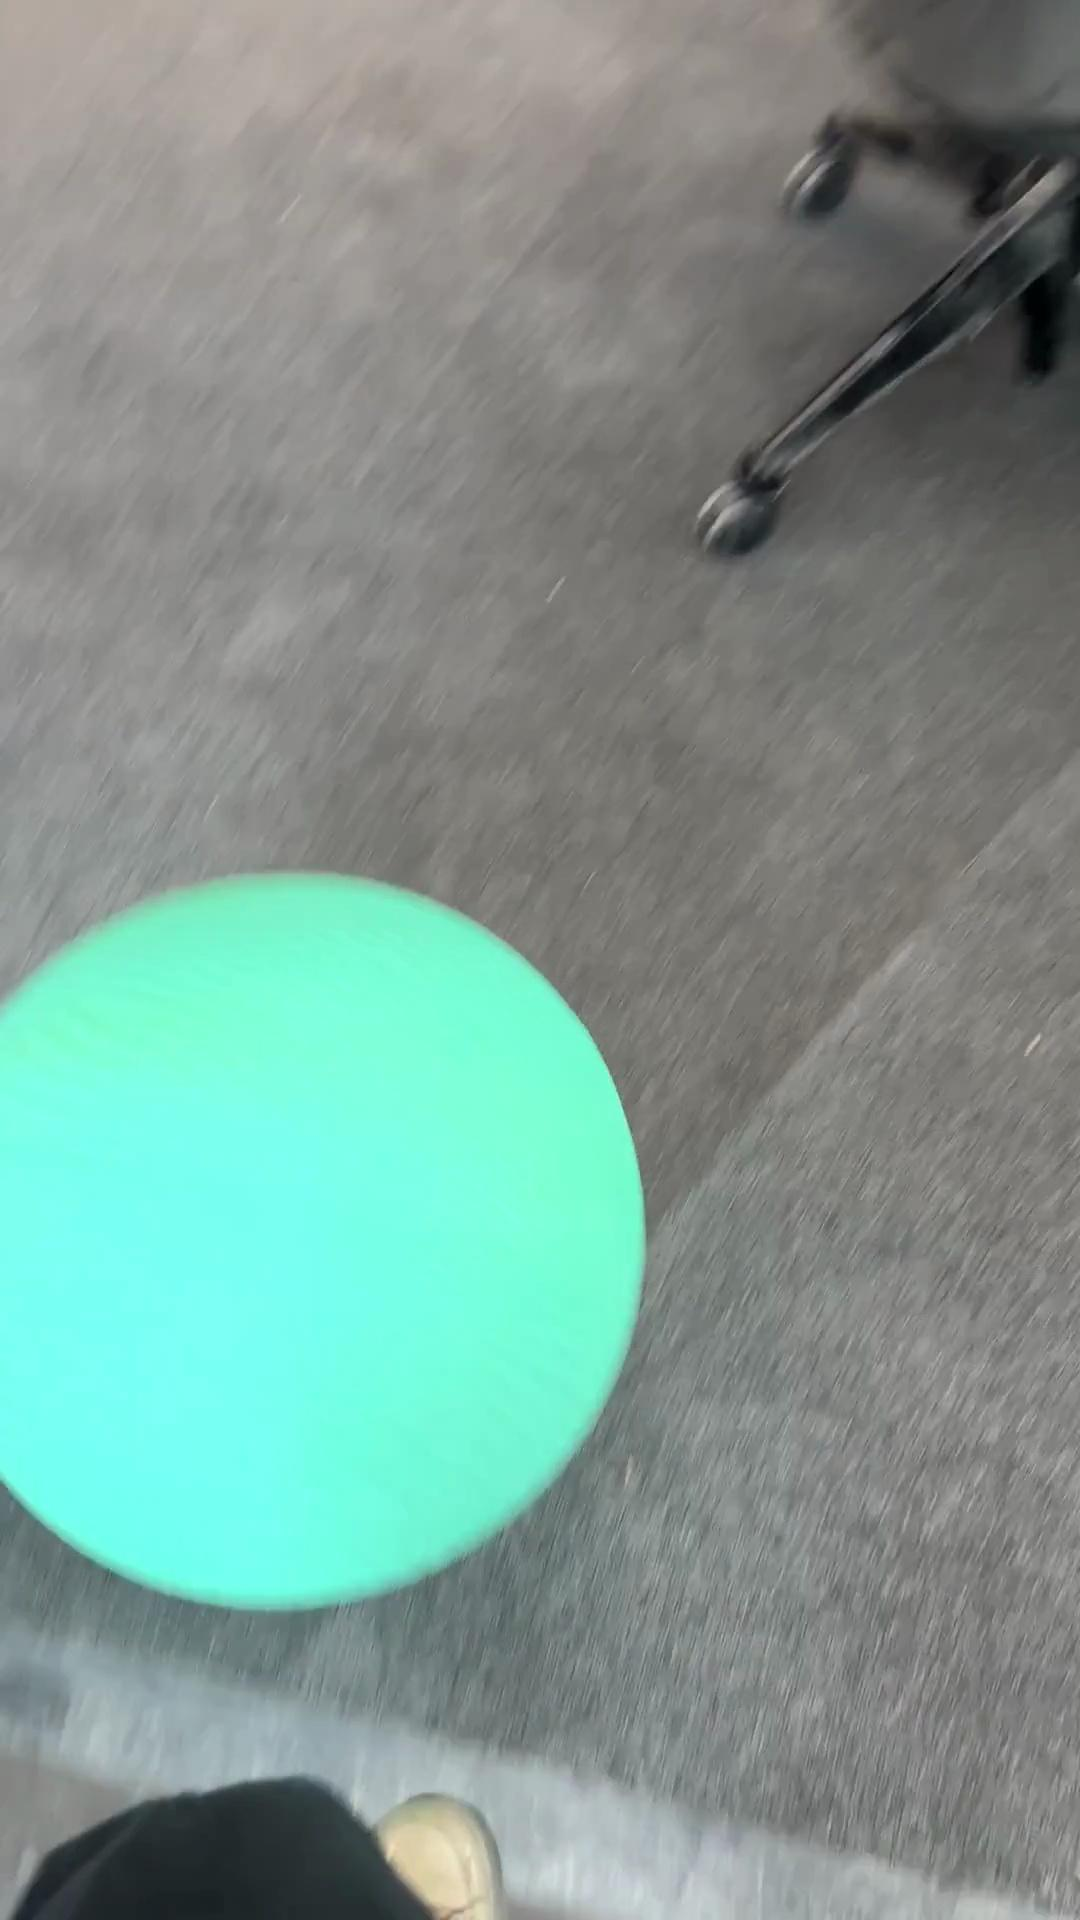ALGAE: (1, 867, 648, 1613)
